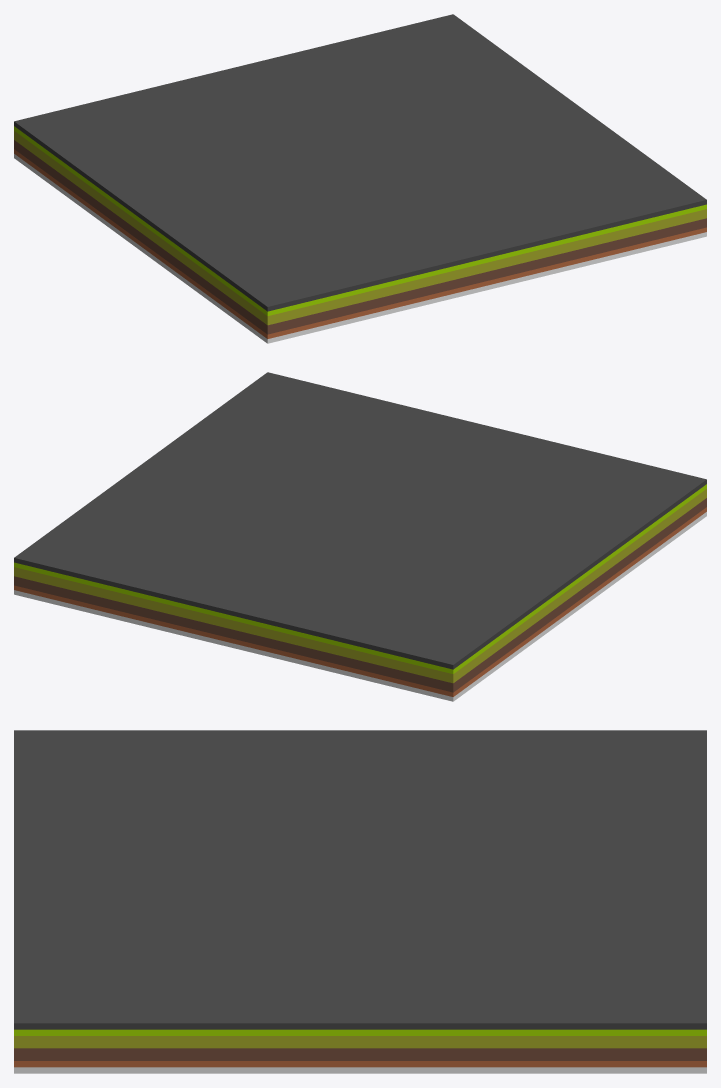
Rendered from House-0-House Foundation.obj.
3 views of the same model, one above another, from view 1: azimuth 30°, elevation 25°; view 2: azimuth 150°, elevation 25°; view 3: azimuth 270°, elevation 25° (orthographic). The views are drawn at different scales.
Visible parts, largest first — view 1: House Foundation; view 2: House Foundation; view 3: House Foundation.
Boxes of the visible parts, box(x1,y1,x2,y2) form: House Foundation: box(14, 14, 706, 343); House Foundation: box(14, 372, 706, 701); House Foundation: box(14, 730, 706, 1073).
Size of the model in its own units: 10 by 0.8 by 10.
1 material, 1 textured.
